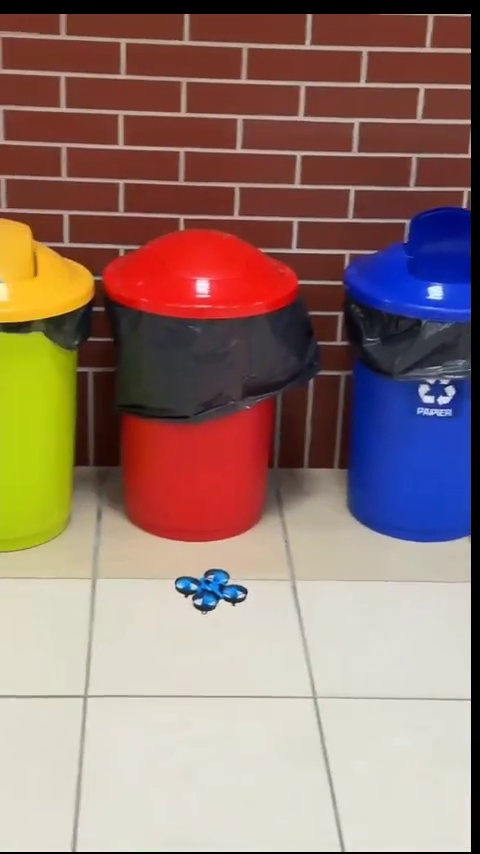drone: (175, 565, 245, 607)
